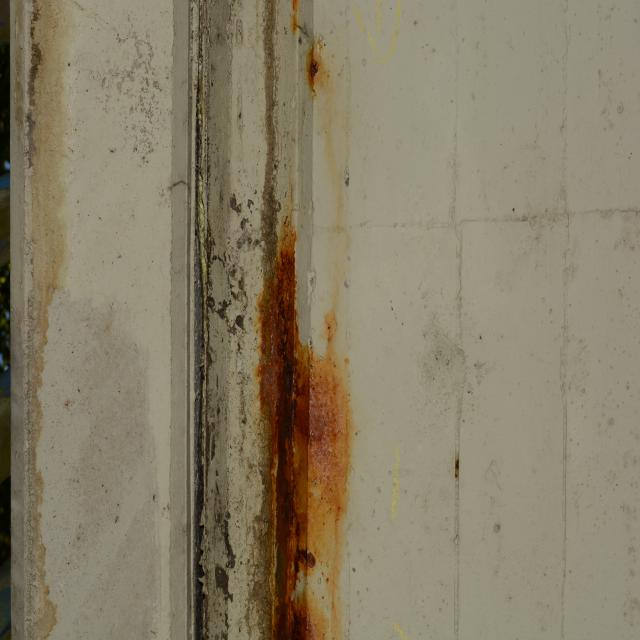corrosion: (236, 186, 370, 640), (258, 0, 353, 132)
